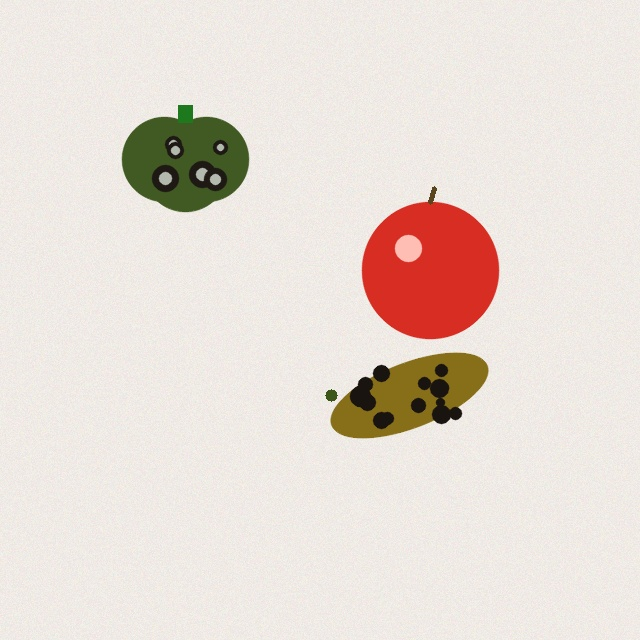Fresh apple: (362, 188, 498, 338)
Rotten banana: (322, 355, 496, 435)
Rotten bell pepper: (122, 105, 248, 211)
